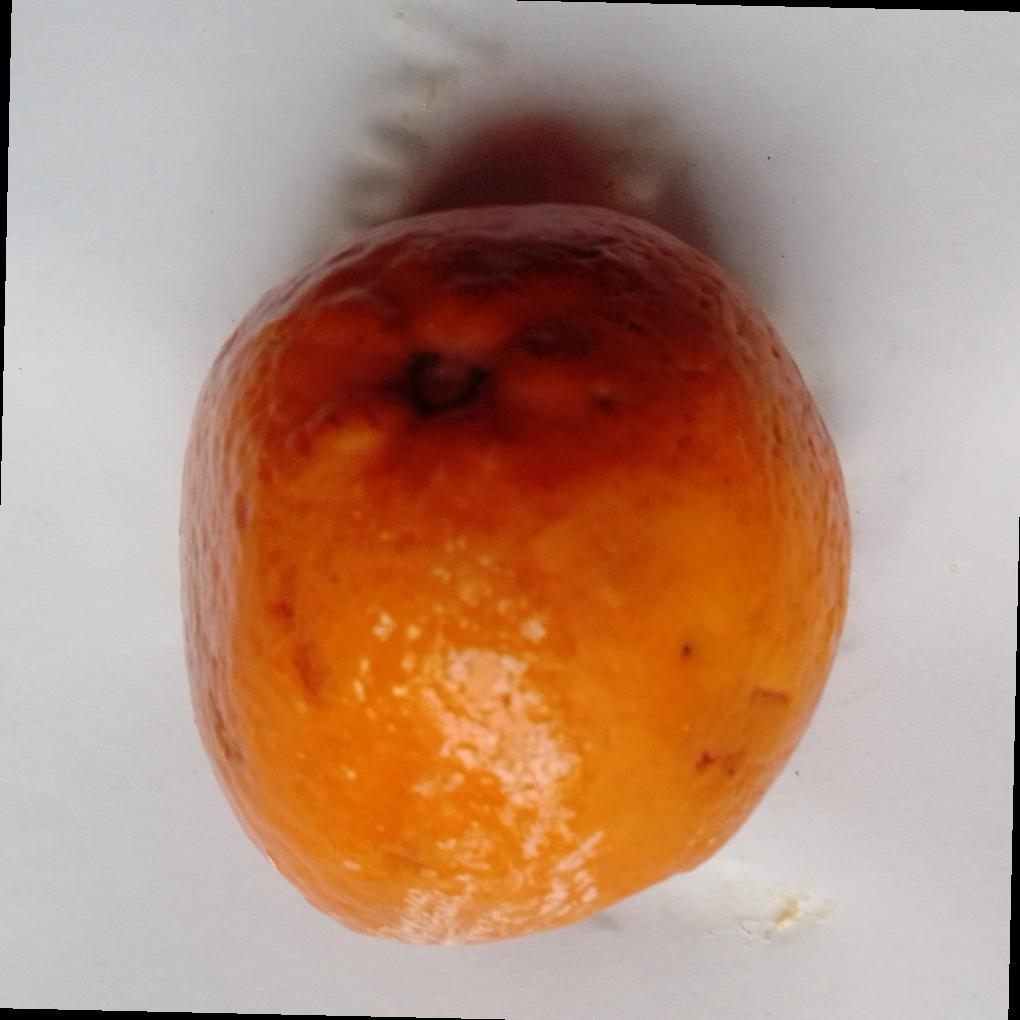FreshOrange: (176, 201, 852, 950)
